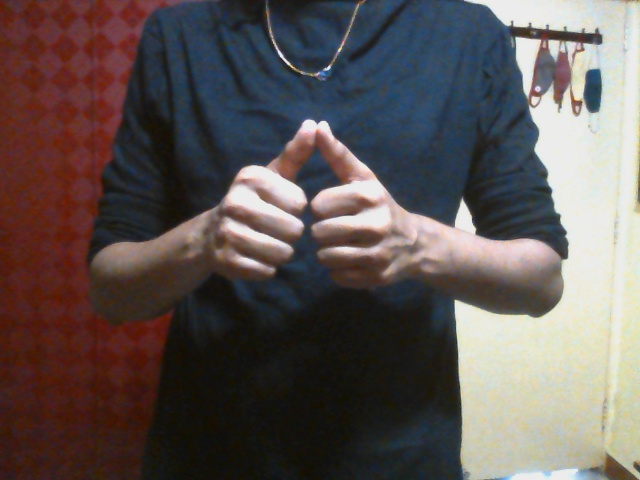A: (203, 118, 406, 298)
